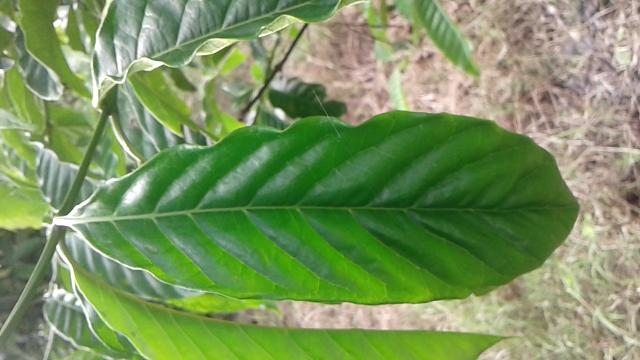healthy: (62, 108, 591, 308)
